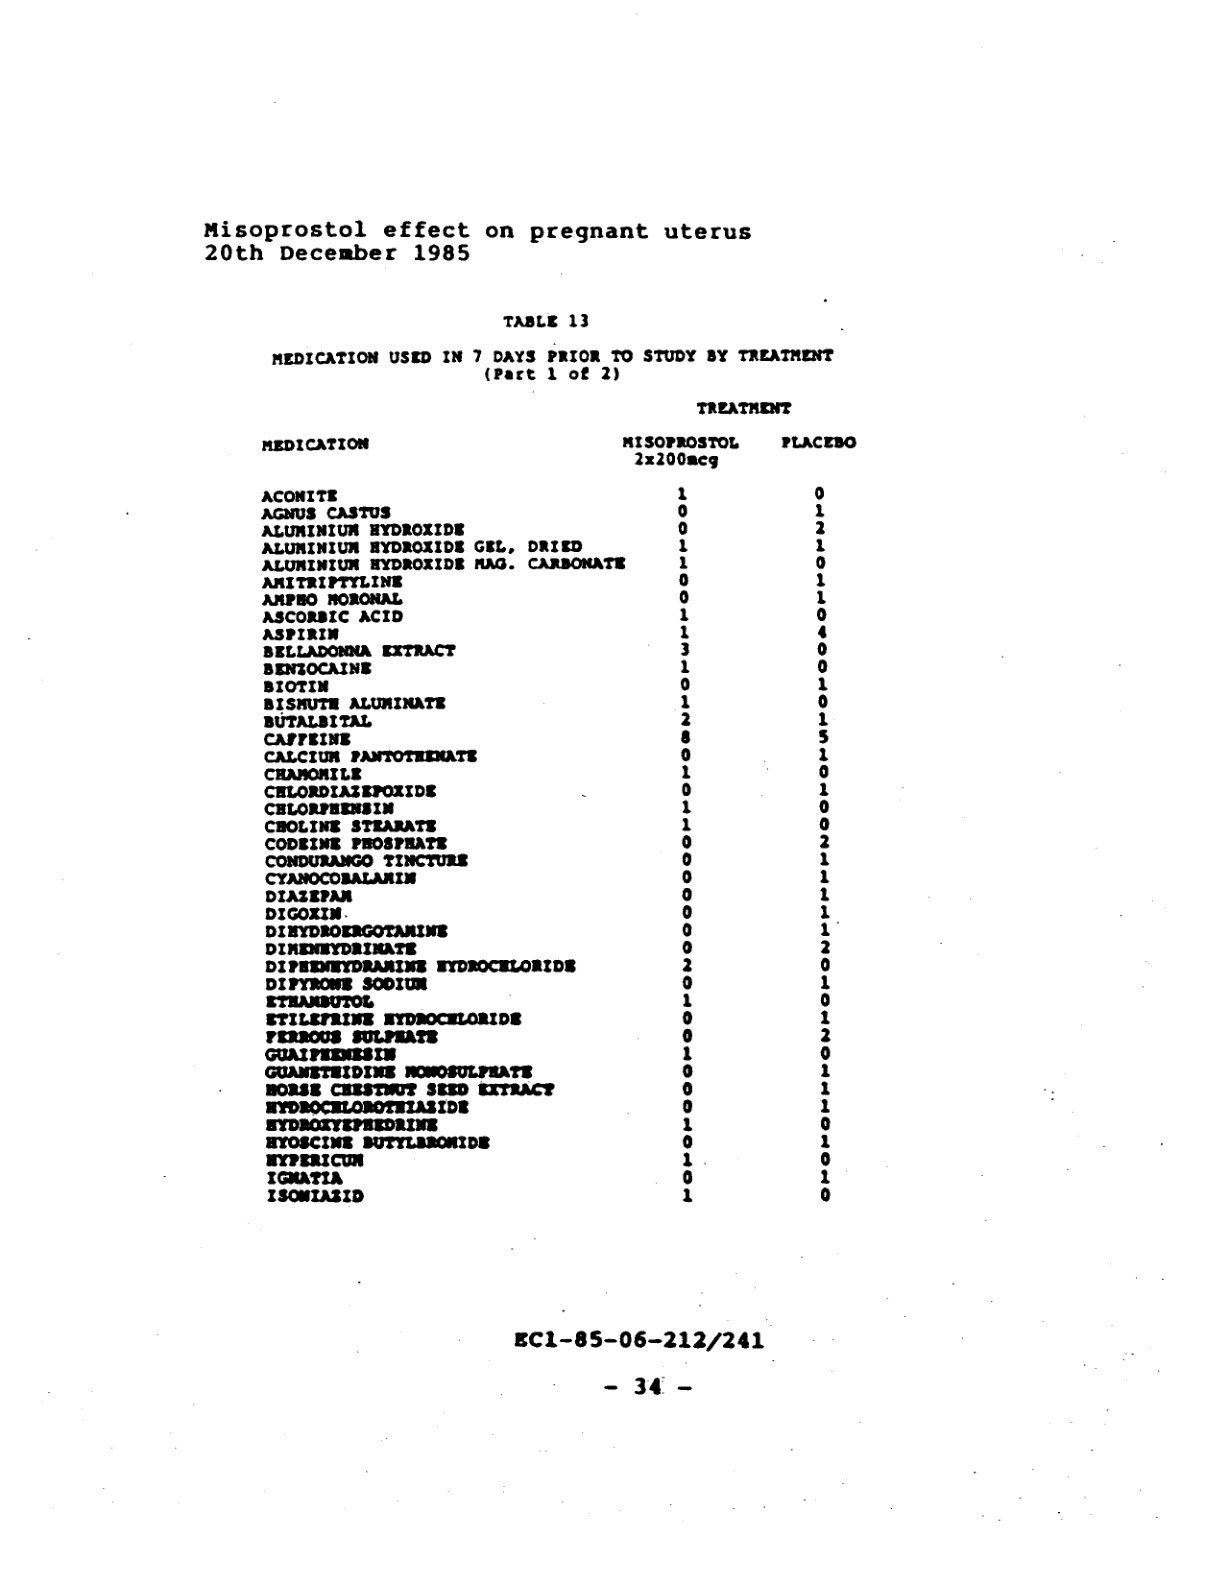nolines: (258, 436, 861, 1201)
